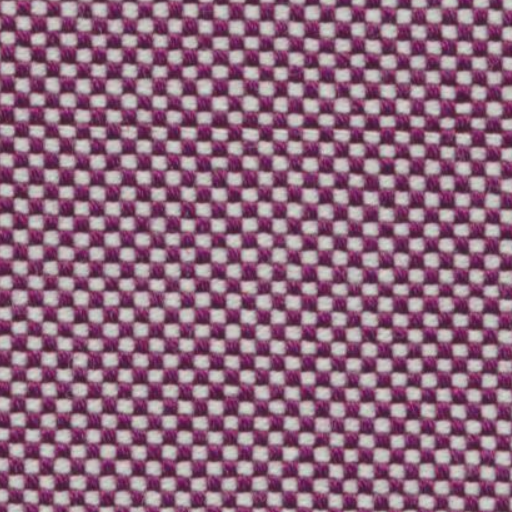TuoSha: (16, 79, 496, 170)
